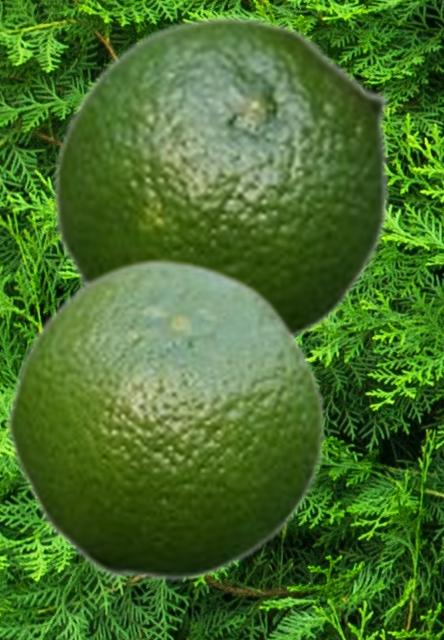calamansi: (52, 15, 391, 341), (4, 256, 326, 581)
